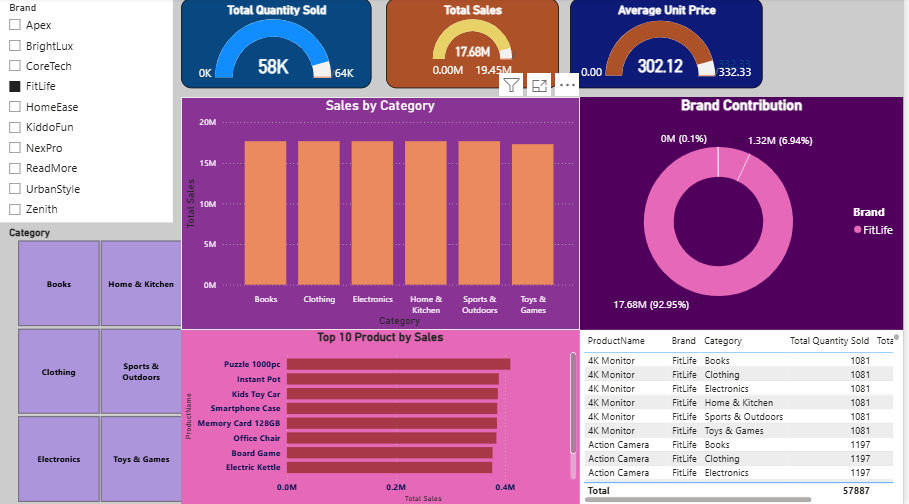

The dashboard page shown, as its layout file describes it:
{"tool":"powerbi","page":{"name":"Product Analysis","canvas":[1280,720],"ordinal":2},"visuals":[{"type":"gauge","title":"Total Quantity Sold","fields":{"Y":["Measure Table.Total Quantity Sold"],"TargetValue":["Measure Table.Quantity Target"],"MaxValue":["Measure Table.Quantity Target"]},"box":[256.7,0,270,128.3],"z":0},{"type":"gauge","title":"Total Sales","fields":{"Y":["Measure Table.Total Sales"],"MaxValue":["Measure Table.Sales Target"],"TargetValue":["Measure Table.Sales Target"]},"box":[546.7,0,245,128.3],"z":1},{"type":"gauge","title":"Average Unit Price","fields":{"Y":["Measure Table.Average Unit Price"],"MaxValue":["Measure Table.Average Unit price target"],"TargetValue":["Measure Table.Average Unit price target"]},"box":[808.3,0,273.3,128.3],"z":2},{"type":"slicer","fields":{"Values":["Product Master.Brand"]},"box":[0,0,245,318.3],"z":3},{"type":"slicer","fields":{"Values":["Product Master.Category"]},"box":[0,318.3,281.7,401.7],"z":4},{"type":"clusteredColumnChart","title":"Sales by Category","fields":{"Category":["Product Master.Category"],"Y":["Measure Table.Total Sales"]},"box":[256.7,140,565,330],"z":5},{"type":"donutChart","title":"Brand Contribution","fields":{"Category":["Product Master.Brand","Product Master.Brand Category"],"Y":["Measure Table.Total Tax","Measure Table.Total Sales","Measure Table.Total Orders","Measure Table.Sales per Customer"]},"box":[821.7,140,458.3,330],"z":6},{"type":"barChart","title":"Top 10 Product by Sales","fields":{"Category":["Product Master.ProductName"],"Y":["Measure Table.Total Sales"]},"box":[256.7,470,565,250],"z":7},{"type":"tableEx","fields":{"Values":["Product Master.ProductName","Product Master.Brand","Product Master.Category","Measure Table.Total Quantity Sold","Measure Table.Total Orders","Measure Table.Total Sales"]},"box":[821.7,470,458.3,250],"z":8}]}

Visuals, with their boxes on the page's 1280x720 design canvas (x1, y1, x2, y2). These are canvas units, not pixel positions in the 909x504 screenshot, which may show the page scaled, cropped or inside an application window:
"Total Quantity Sold" gauge: [left=257, top=0, right=527, bottom=128]
"Total Sales" gauge: [left=547, top=0, right=792, bottom=128]
"Average Unit Price" gauge: [left=808, top=0, right=1082, bottom=128]
slicer - Product Master.Brand: [left=0, top=0, right=245, bottom=318]
slicer - Product Master.Category: [left=0, top=318, right=282, bottom=720]
"Sales by Category" clusteredColumnChart: [left=257, top=140, right=822, bottom=470]
"Brand Contribution" donutChart: [left=822, top=140, right=1280, bottom=470]
"Top 10 Product by Sales" barChart: [left=257, top=470, right=822, bottom=720]
tableEx - Product Master.ProductName x Product Master.Brand: [left=822, top=470, right=1280, bottom=720]
